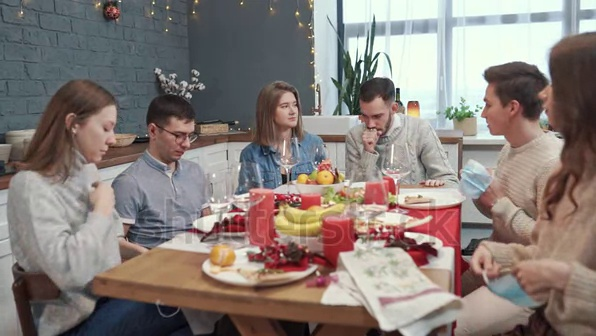No Mask: (45, 73, 125, 177), (472, 58, 550, 147), (246, 78, 319, 150), (147, 91, 203, 178), (357, 74, 398, 143)
